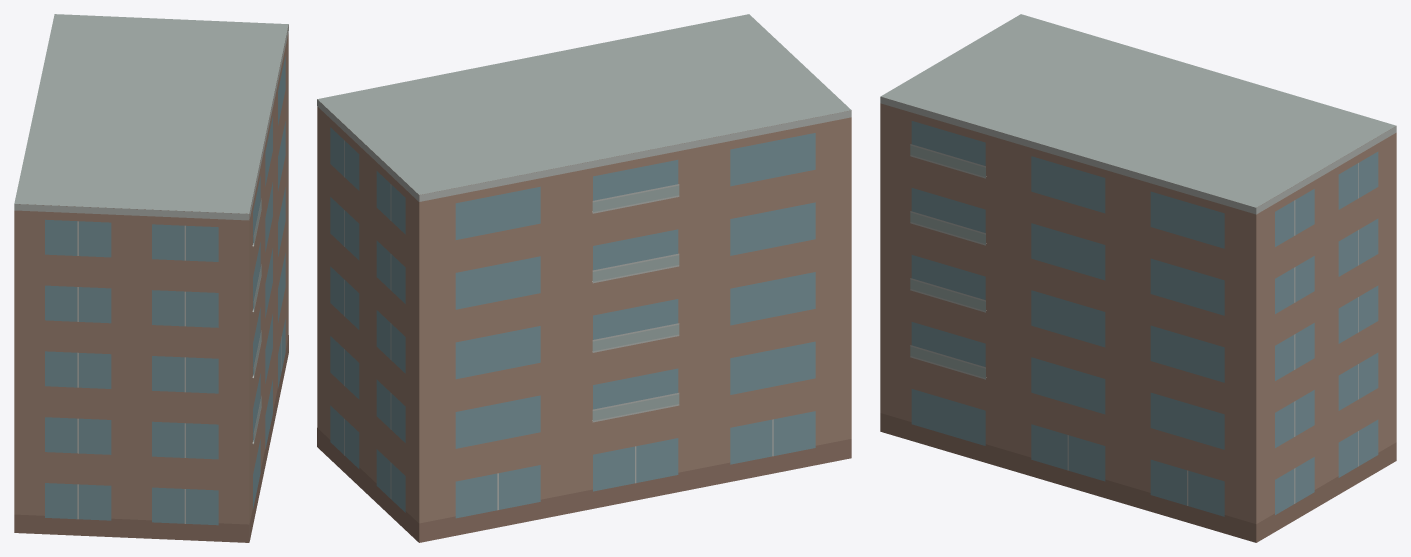
File: survey-upis-32605540.glb
3 renders of one model, left to right at view 1: azimuth 30°, elevation 25°; view 2: azimuth 150°, elevation 25°; view 3: azimuth 270°, elevation 25°, orthographic. The views are drawn at different scales.
Visible parts, largest first — view 1: survey-upis-32605540.tmp; view 2: survey-upis-32605540.tmp; view 3: survey-upis-32605540.tmp.
Boxes of the visible parts, <box> form: survey-upis-32605540.tmp: <box>14,14,288,542</box>; survey-upis-32605540.tmp: <box>317,14,851,542</box>; survey-upis-32605540.tmp: <box>880,14,1396,542</box>.
Bounding box in the file's own units: 15.02 × 12.1 × 16.9.
